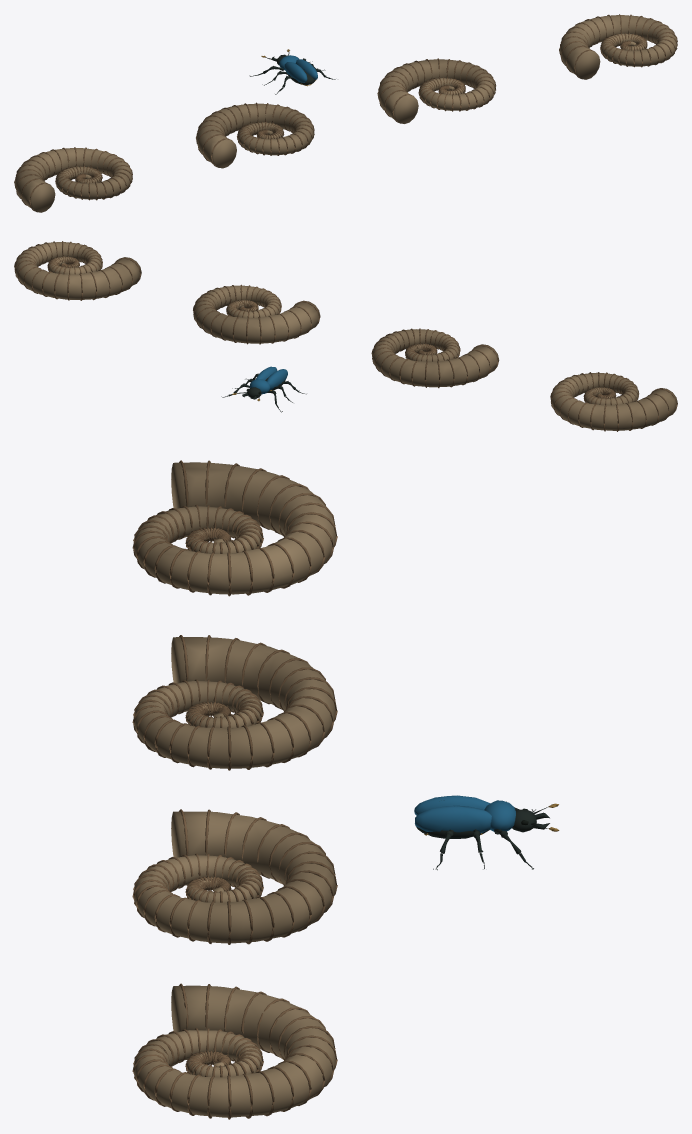
3 views of the same model, one above another, from view 1: azimuth 30°, elevation 25°; view 2: azimuth 150°, elevation 25°; view 3: azimuth 270°, elevation 25° (orthographic). The views are drawn at different scales.
Parts seen in each view (by area): view 1: L01_SPEC_Chitin_export; view 2: L01_SPEC_Chitin_export; view 3: L01_SPEC_Chitin_export.
Boxes of the visible parts, left/top/right/bottom form: L01_SPEC_Chitin_export: left=14, top=14, right=677, bottom=212; L01_SPEC_Chitin_export: left=14, top=241, right=677, bottom=431; L01_SPEC_Chitin_export: left=132, top=460, right=559, bottom=1119.
Bounding box in the file's own units: 3.42 × 0.1572 × 0.9834.
